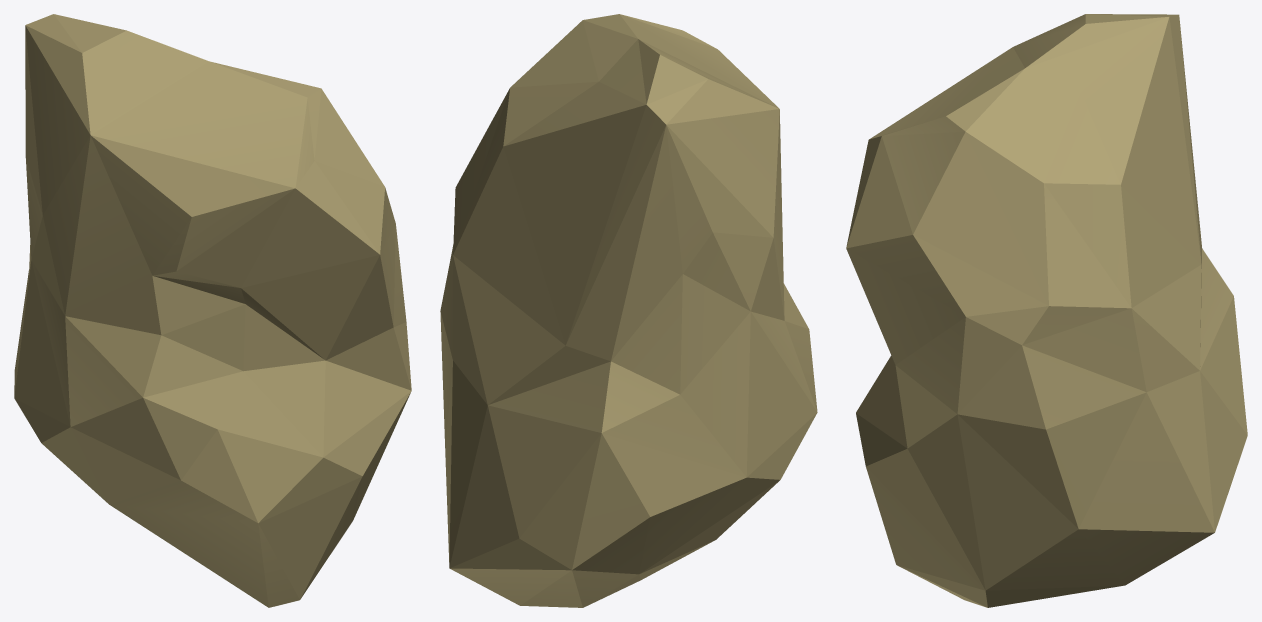
Rendered from SM_small_rock_36.fbx.
3 views of the same model, side by side, from view 1: azimuth 30°, elevation 25°; view 2: azimuth 150°, elevation 25°; view 3: azimuth 270°, elevation 25° (orthographic). The views are drawn at different scales.
Visible parts, largest first — view 1: small_rock_36; view 2: small_rock_36; view 3: small_rock_36.
Part boxes in pixels (left/top/right/bottom): small_rock_36: left=14, top=14, right=411, bottom=607; small_rock_36: left=440, top=14, right=817, bottom=607; small_rock_36: left=846, top=14, right=1247, bottom=607.
Bounding box in the file's own units: 95.55 × 155 × 105.
